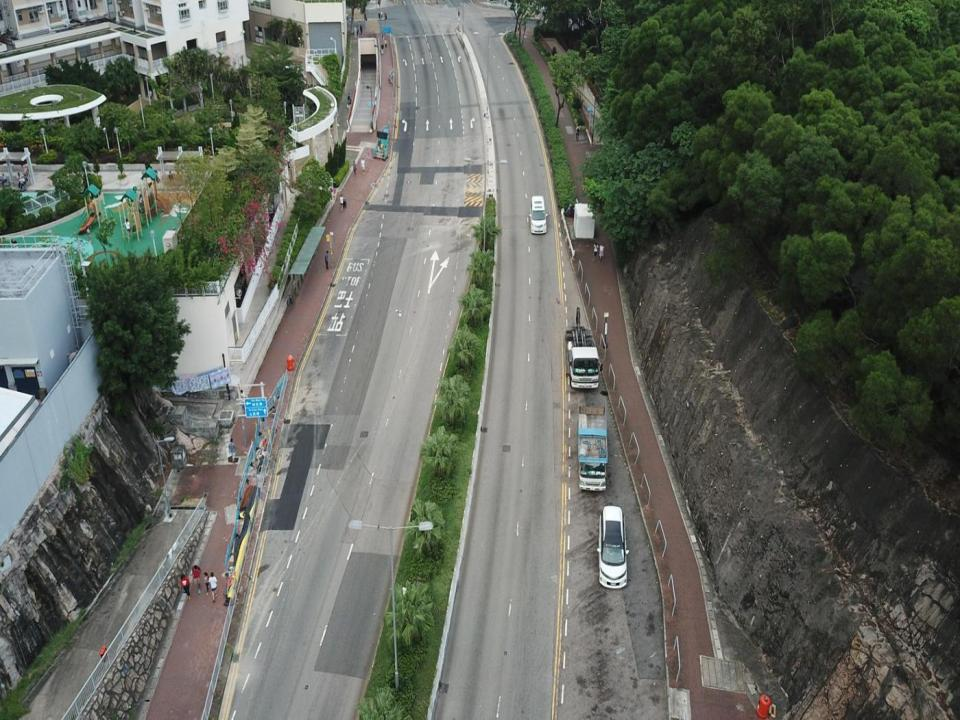truck: (566, 308, 603, 392), (579, 398, 608, 492)
van: (596, 505, 629, 591), (529, 195, 548, 234)
